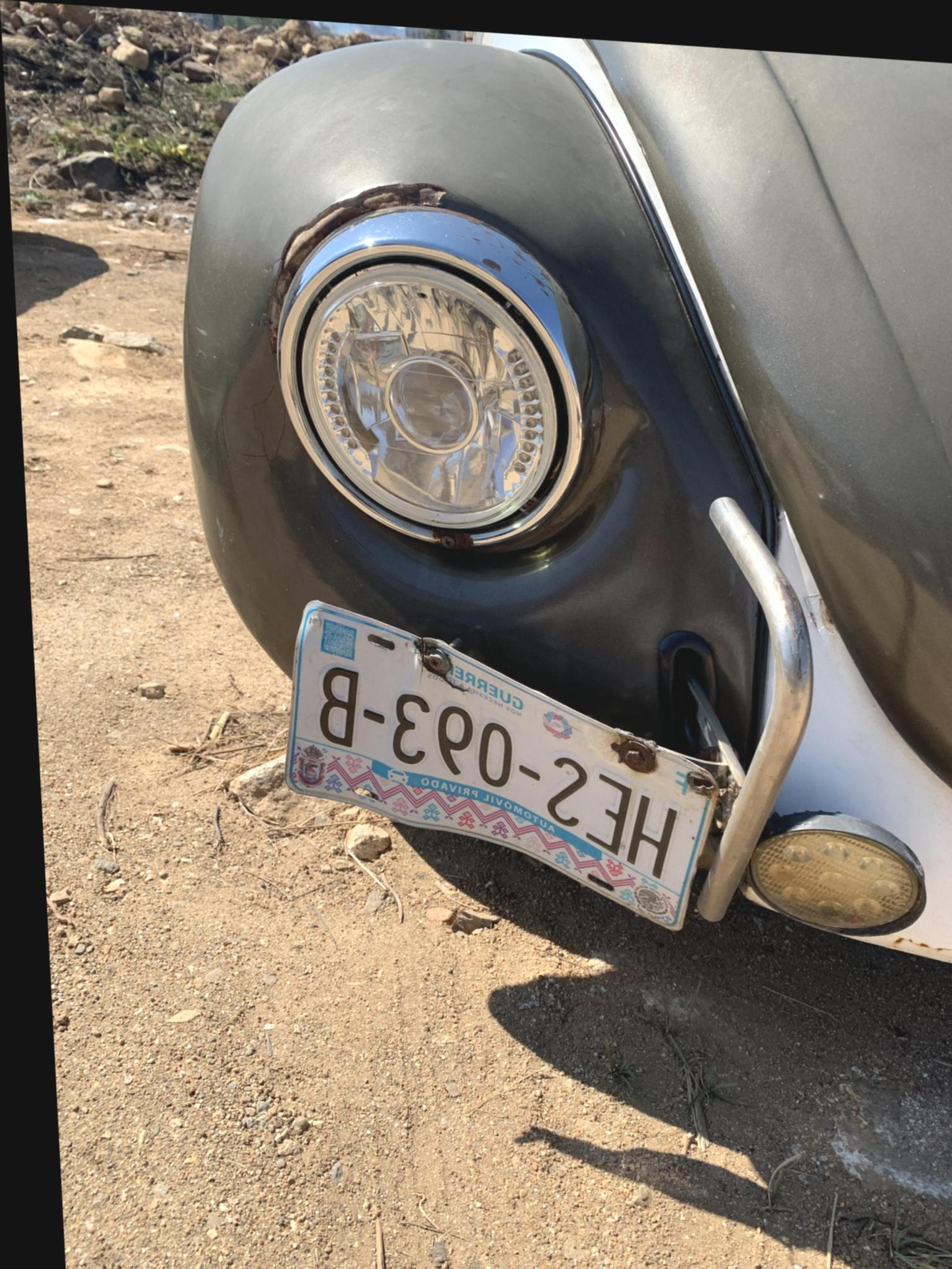License_Plate: (251, 610, 767, 961)
